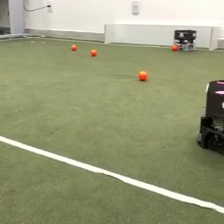ball: (137, 68, 149, 81), (69, 42, 77, 51), (89, 47, 97, 56), (170, 42, 178, 51)
goal: (103, 21, 220, 52)
robot: (194, 78, 224, 155), (173, 27, 198, 52)
